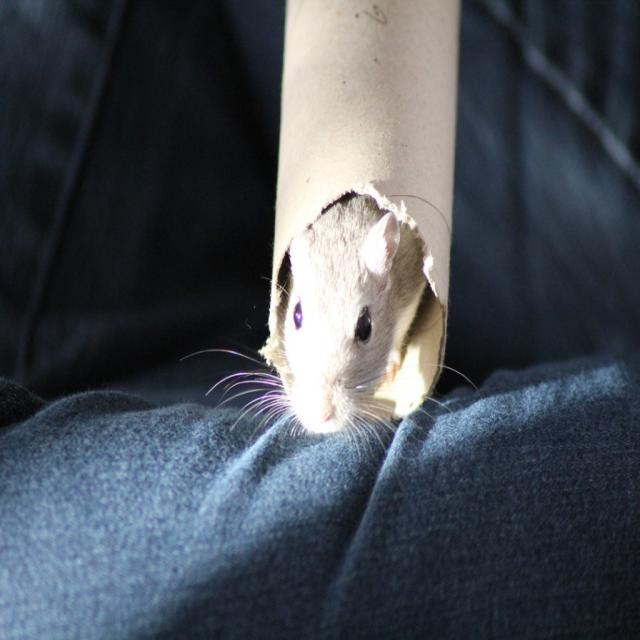rat: (180, 193, 476, 430)
